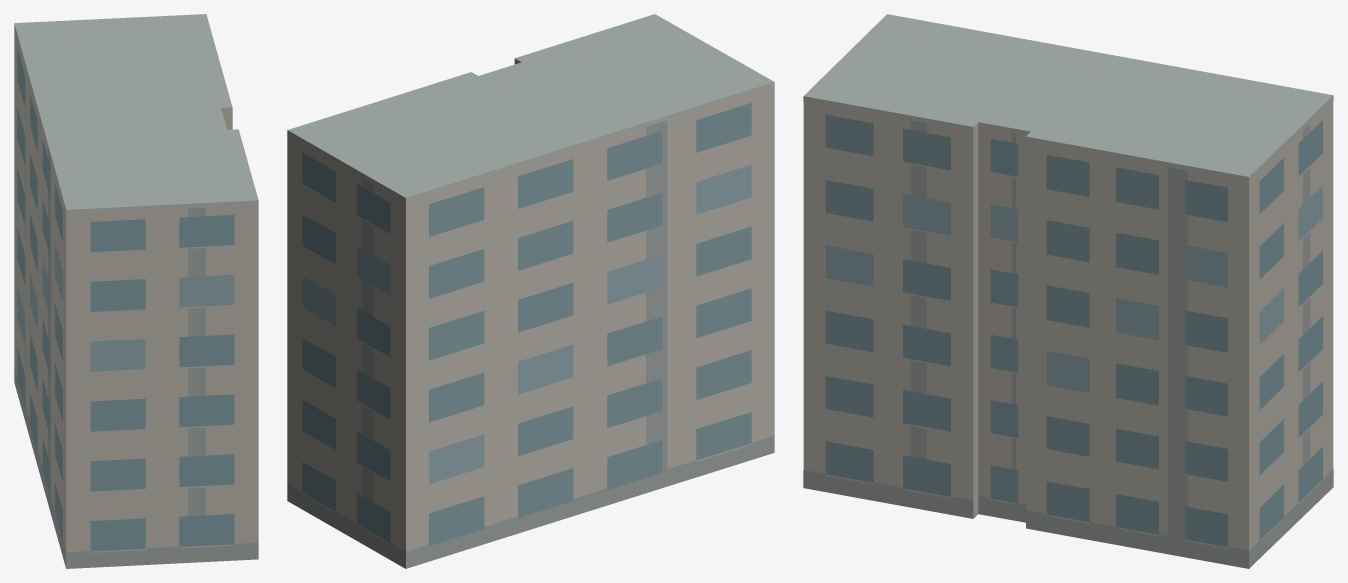
File: survey-upis-32567295.glb
3 renders of one model, left to right at view 1: azimuth 30°, elevation 25°; view 2: azimuth 150°, elevation 25°; view 3: azimuth 270°, elevation 25°, orthographic. The views are drawn at different scales.
Parts seen in each view (by area): view 1: survey-upis-32567295.tmp; view 2: survey-upis-32567295.tmp; view 3: survey-upis-32567295.tmp.
Boxes of the visible parts, left/top/right/bottom form: survey-upis-32567295.tmp: left=14, top=14, right=258, bottom=568; survey-upis-32567295.tmp: left=287, top=14, right=774, bottom=568; survey-upis-32567295.tmp: left=803, top=14, right=1333, bottom=568.
Size of the model in its own units: 16.5 by 18.5 by 22.68.
